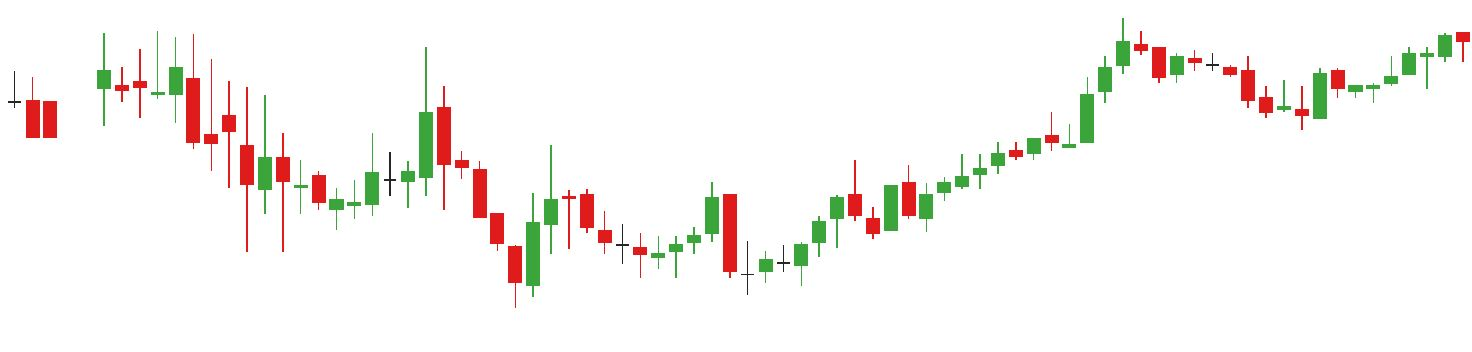buy: (632, 213, 774, 295)
sell: (257, 47, 455, 208)
